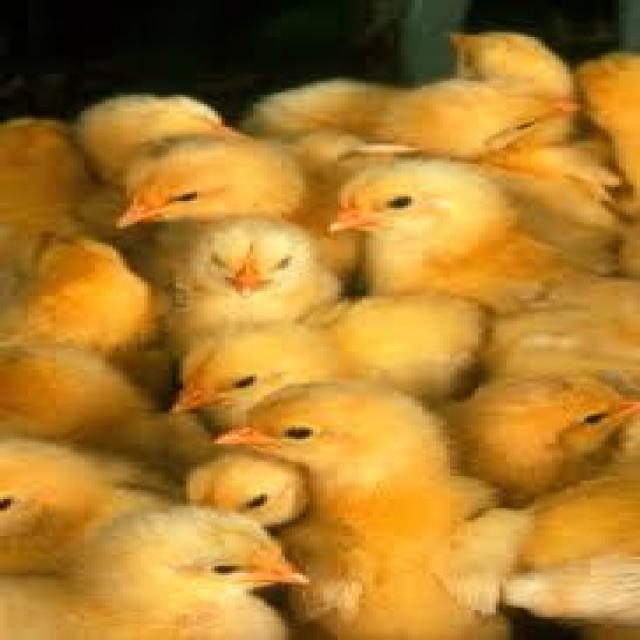poussin: (213, 373, 507, 640), (0, 505, 314, 640), (165, 294, 493, 421), (327, 161, 572, 315), (8, 116, 154, 352), (120, 111, 373, 229), (1, 354, 178, 522), (446, 30, 640, 180), (415, 372, 635, 504), (230, 94, 585, 173), (165, 220, 340, 339), (184, 448, 308, 526)
